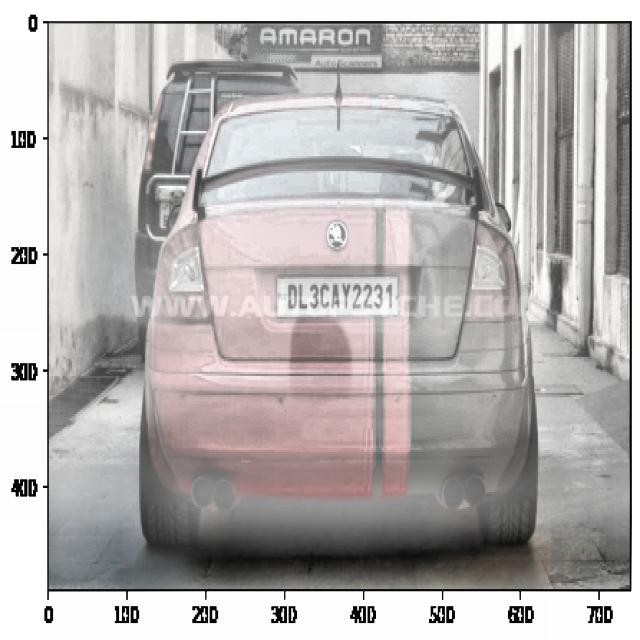license_plate: (282, 278, 400, 317)
